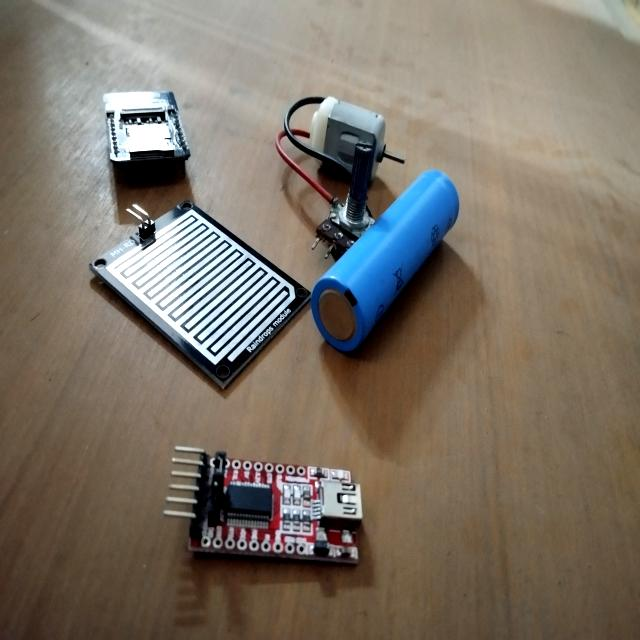3-3-Volt-Battery: (310, 166, 462, 358)
DC-Motor: (307, 92, 409, 180)
ESP32-CAM: (100, 85, 195, 184)
FT-232-USB-Serial-Module: (162, 438, 367, 570)
Raindrops-Module: (87, 201, 314, 397)
Taper-Potentiometer: (313, 141, 382, 264)
